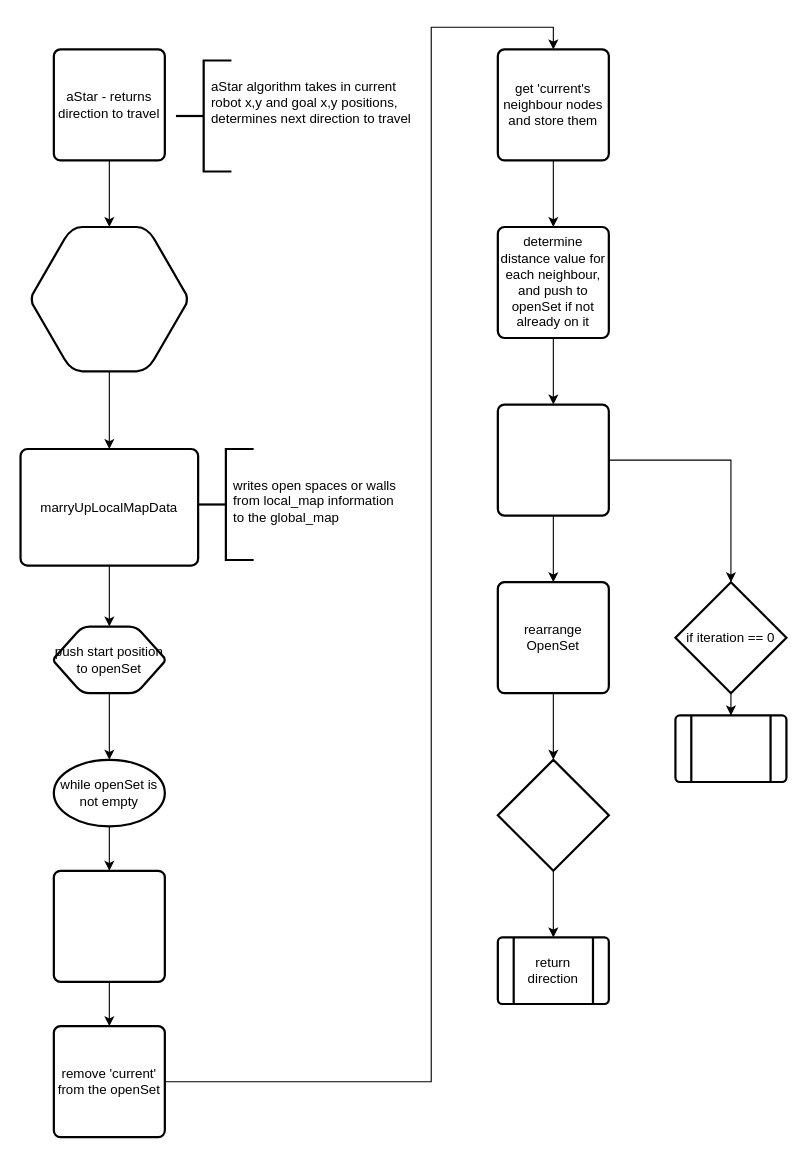
This 806x1158 diagram has some shape labels left out. Each missing label, with the box of its shape:
find shortest distance value in openSet. name it 'current': (52, 869, 165, 982)
getDirection: (674, 714, 787, 783)
if neighbour is the goal: (496, 758, 609, 871)
push 'current' to the closed set: (496, 403, 609, 516)
setup arrays write goal and robot locations to global_map: (30, 225, 188, 372)
